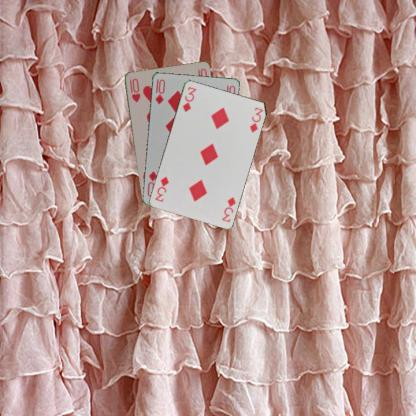10d: (152, 76, 166, 105)
10h: (127, 76, 142, 103)
3d: (219, 194, 237, 223), (180, 84, 197, 113)
